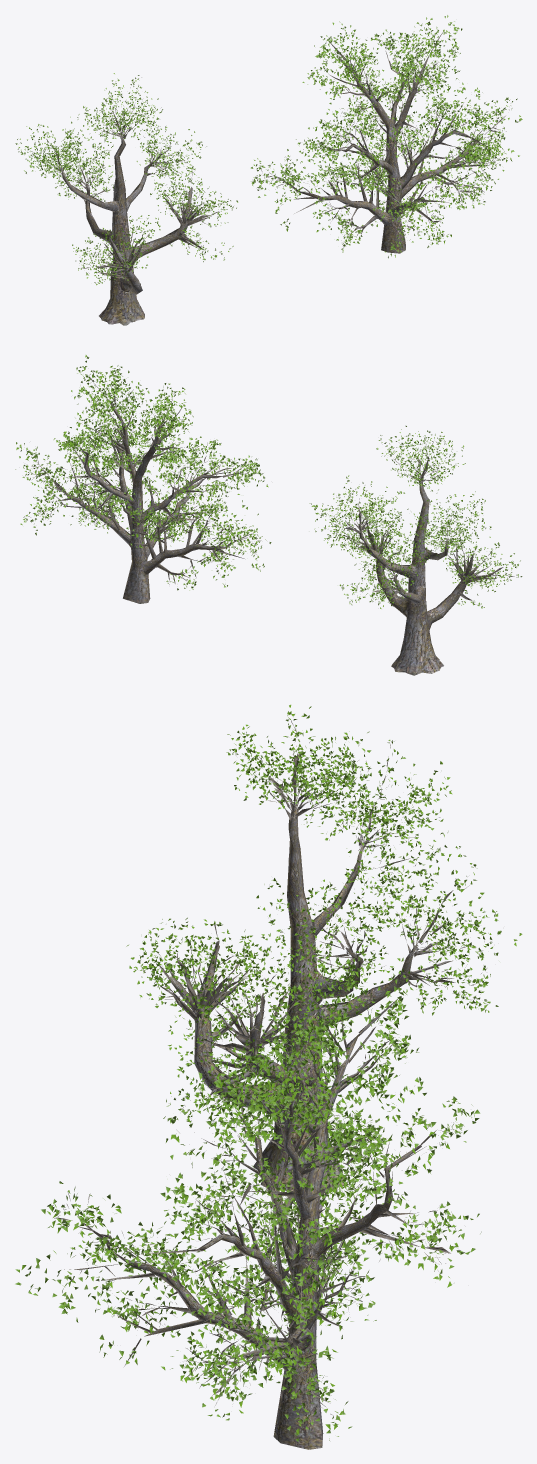
The model's file is fab_trees_phone.glb.
The picture shows the model from 3 angles, top to bottom: view 1: azimuth 30°, elevation 25°; view 2: azimuth 150°, elevation 25°; view 3: azimuth 270°, elevation 25°; orthographic projection. The views are drawn at different scales.
Parts seen in each view (by area): view 1: Tree_0, Tree.001_1; view 2: Tree_0, Tree.001_1; view 3: Tree_0, Tree.001_1.
Part boxes in pixels (x1,y1,x2,y2): Tree_0: (250, 15, 522, 258); Tree.001_1: (15, 73, 238, 325); Tree_0: (15, 355, 271, 603); Tree.001_1: (309, 425, 522, 675); Tree_0: (15, 953, 481, 1449); Tree.001_1: (126, 704, 522, 1191).
Bounding box in the file's own units: 15.73 × 7.3 × 7.31.
Materials: 2 (2 with a texture image).
